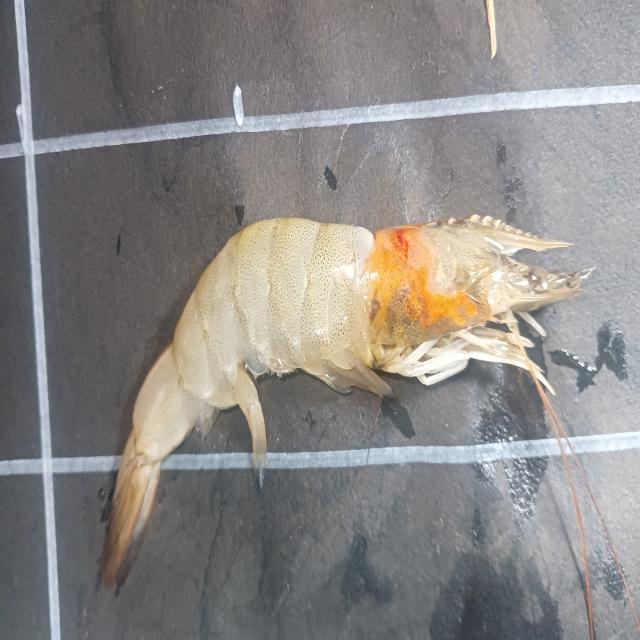shrimp: (104, 215, 590, 587)
